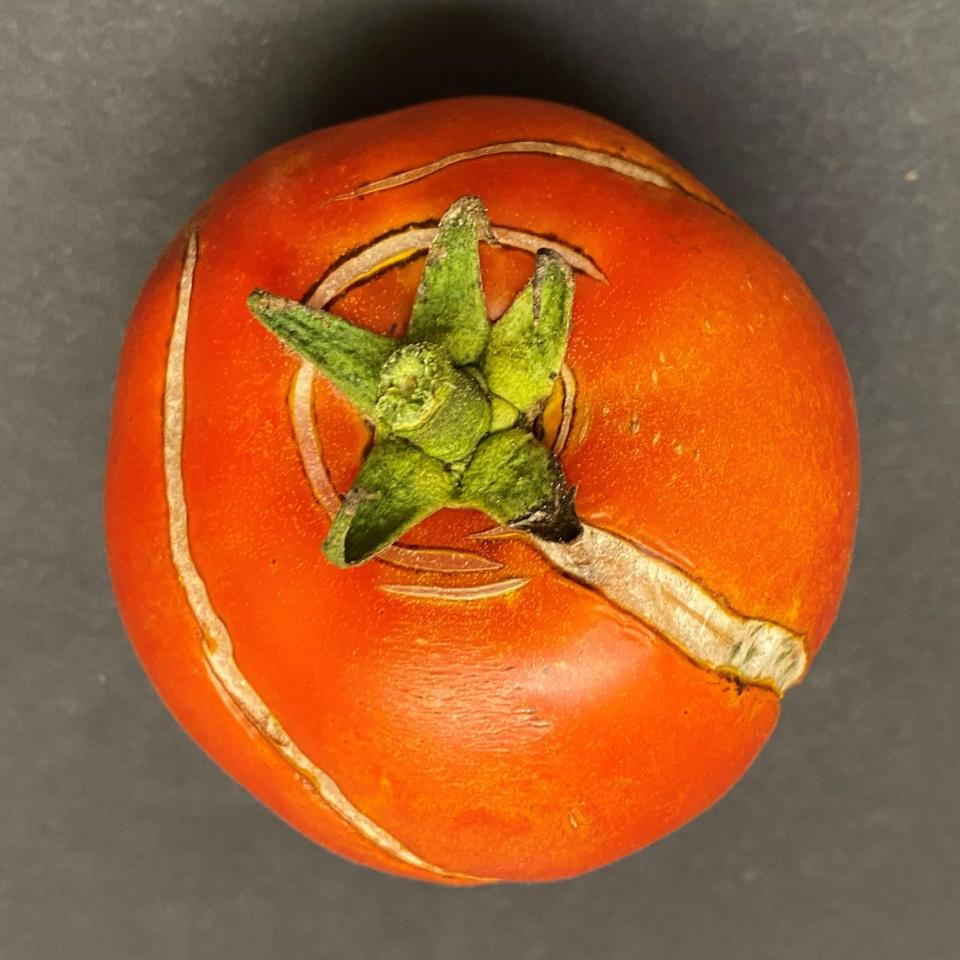Cracking: (125, 187, 508, 881), (414, 439, 833, 755), (280, 311, 532, 639), (250, 214, 704, 324), (257, 128, 715, 214)
